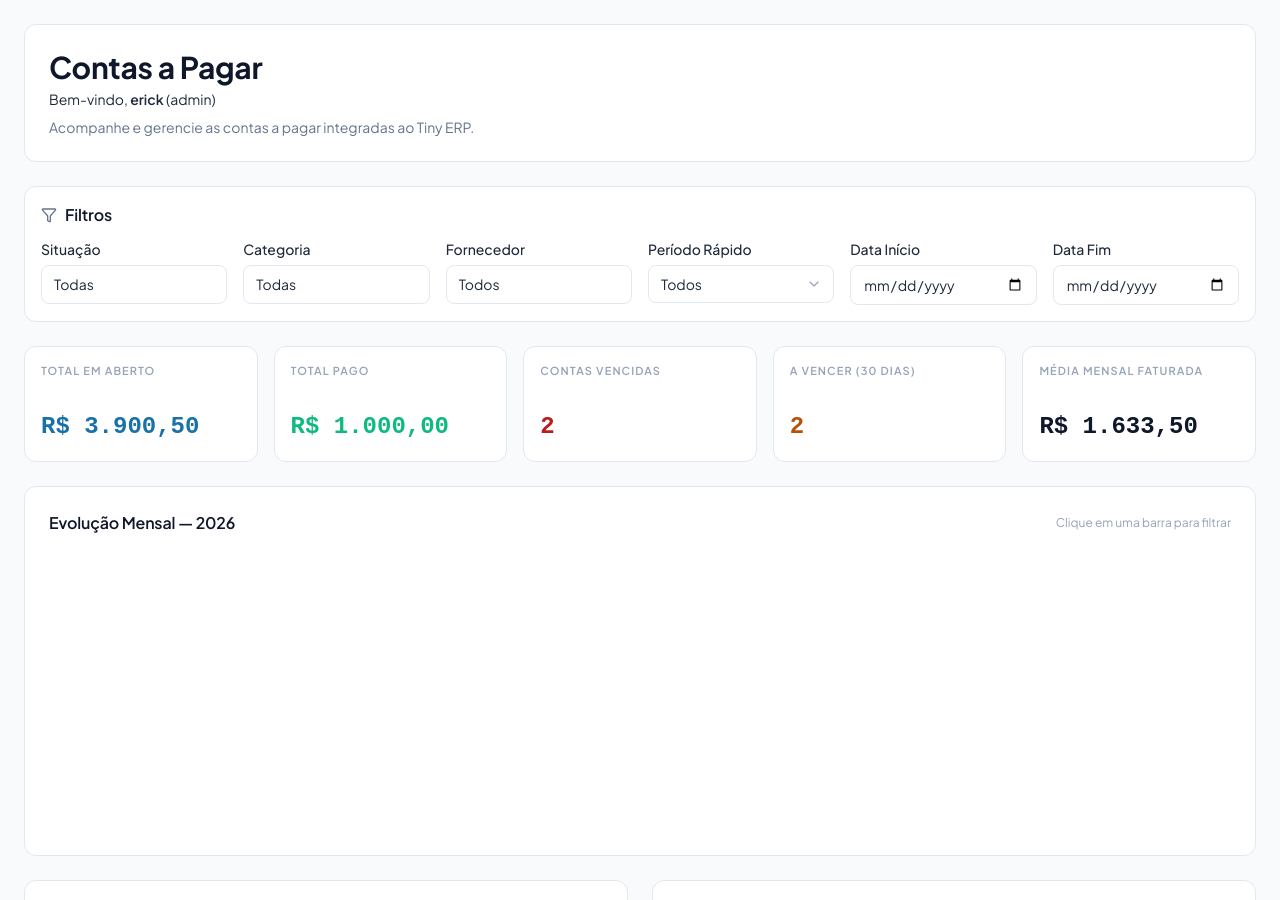
it: Contas a Pagar — filtros › mexer numa data joga o período rápido para Personalizado
This screenshot has width=1280, height=900.
expect the dropdown shows "Todos": met, box [648, 265, 834, 303]
Type "2026-02-01" into the date field labelled "Data Início". click: [943, 285]
box: [850, 265, 1037, 305]
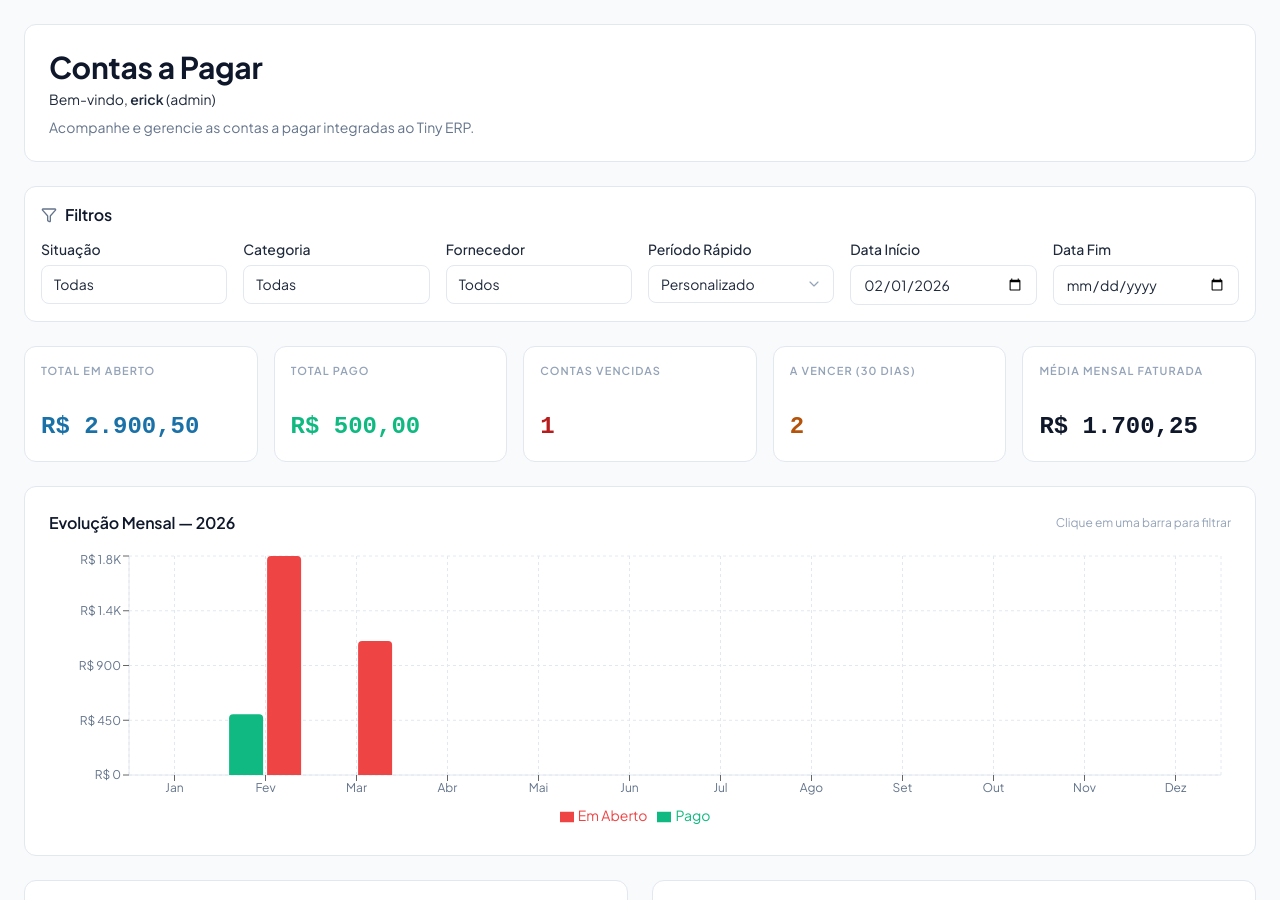
expect the dropdown shows "Personalizado": met, box [648, 265, 834, 303]
